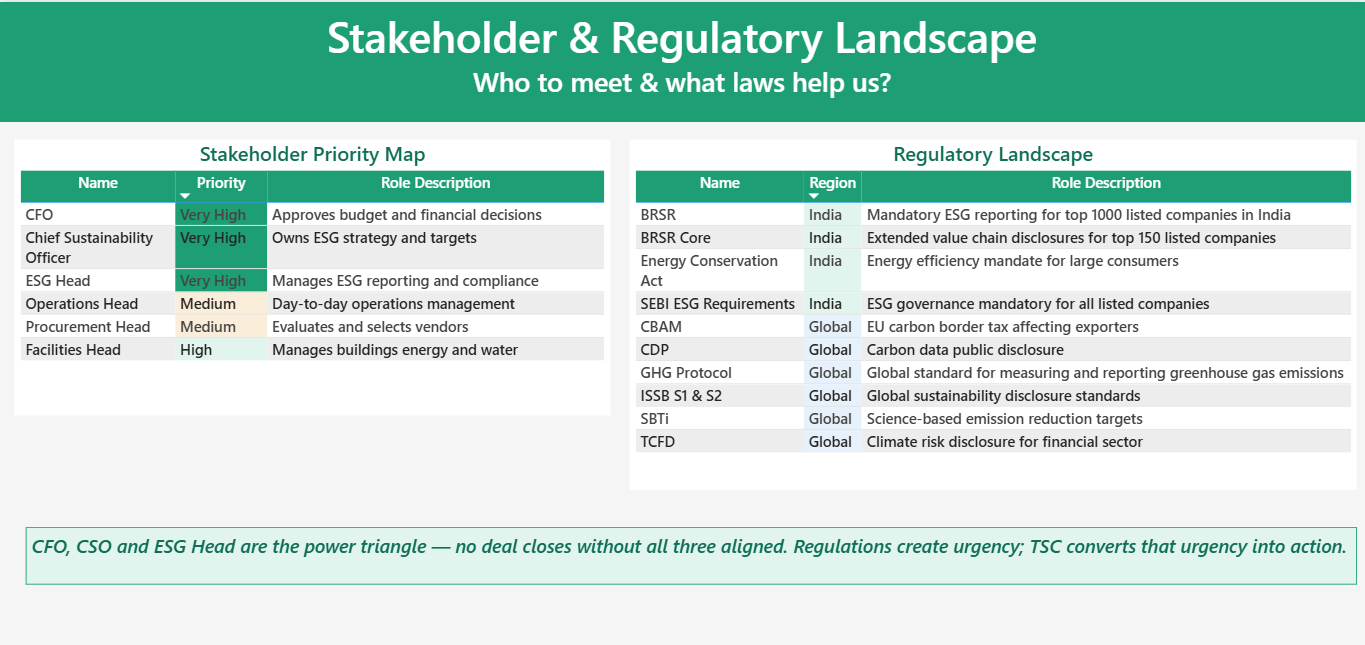

What the dashboard file says about the page in this screenshot:
{"tool":"powerbi","page":{"name":"Stakeholder & Regulatory Landscape","canvas":[1370,650],"ordinal":3},"visuals":[{"type":"textbox","box":[0,0,1370,120],"z":0},{"type":"tableEx","title":"Stakeholder Priority Map","fields":{"Values":["3_stakeholders_v2.Name","3_stakeholders_v2.Priority","3_stakeholders_v2.Role Description"]},"box":[17.5,137.5,596.2,276.2],"z":1000},{"type":"tableEx","title":"Regulatory Landscape","fields":{"Values":["3_stakeholders_v2.Name","3_stakeholders_v2.Region","3_stakeholders_v2.Role Description"]},"box":[632.5,137.5,727.5,350],"z":2000},{"type":"textbox","box":[28.8,525,1331.2,57.5],"z":3000}]}

Visuals, with their boxes in screenshot pixels (x1, y1, x2, y2), scaled from the page's 1370x650 canvas onto the 1365x645 screenshot:
textbox: box(0, 0, 1364, 119)
"Stakeholder Priority Map" tableEx: box(17, 136, 611, 411)
"Regulatory Landscape" tableEx: box(630, 136, 1355, 484)
textbox: box(29, 521, 1355, 578)
